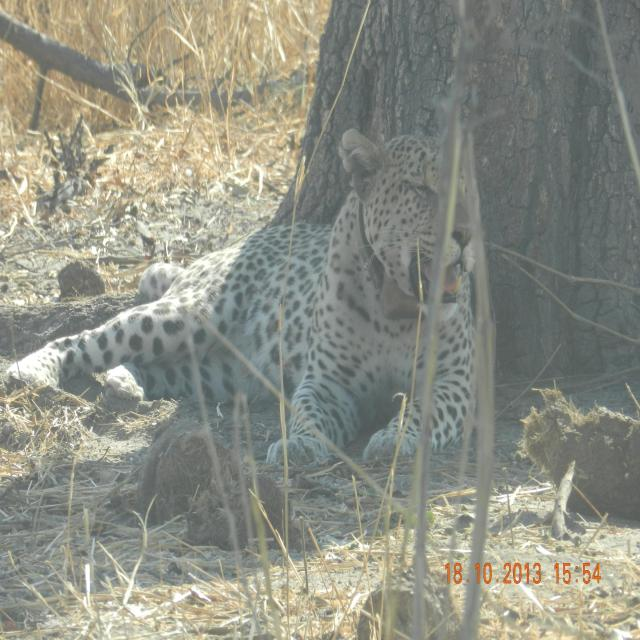Leopard: (40, 123, 500, 475)
